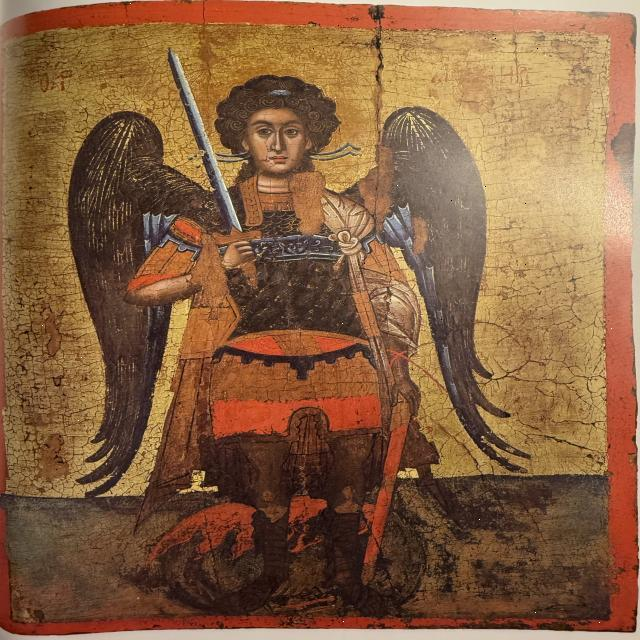angel: (17, 35, 529, 597)
sword: (162, 46, 262, 285)
wing: (355, 102, 558, 468), (40, 106, 199, 492)
